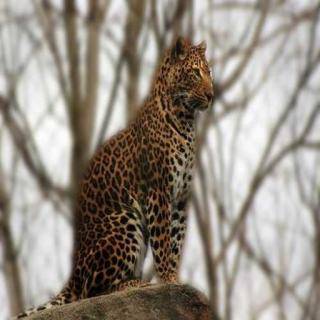Leopard: (44, 19, 232, 293)
